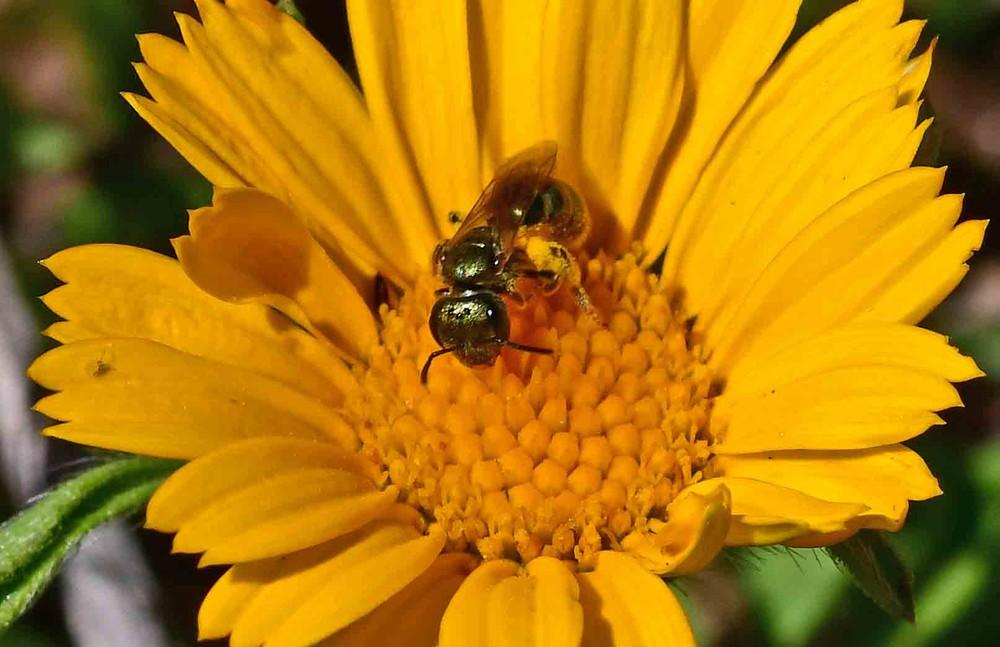Seladonia: (399, 133, 617, 401)
